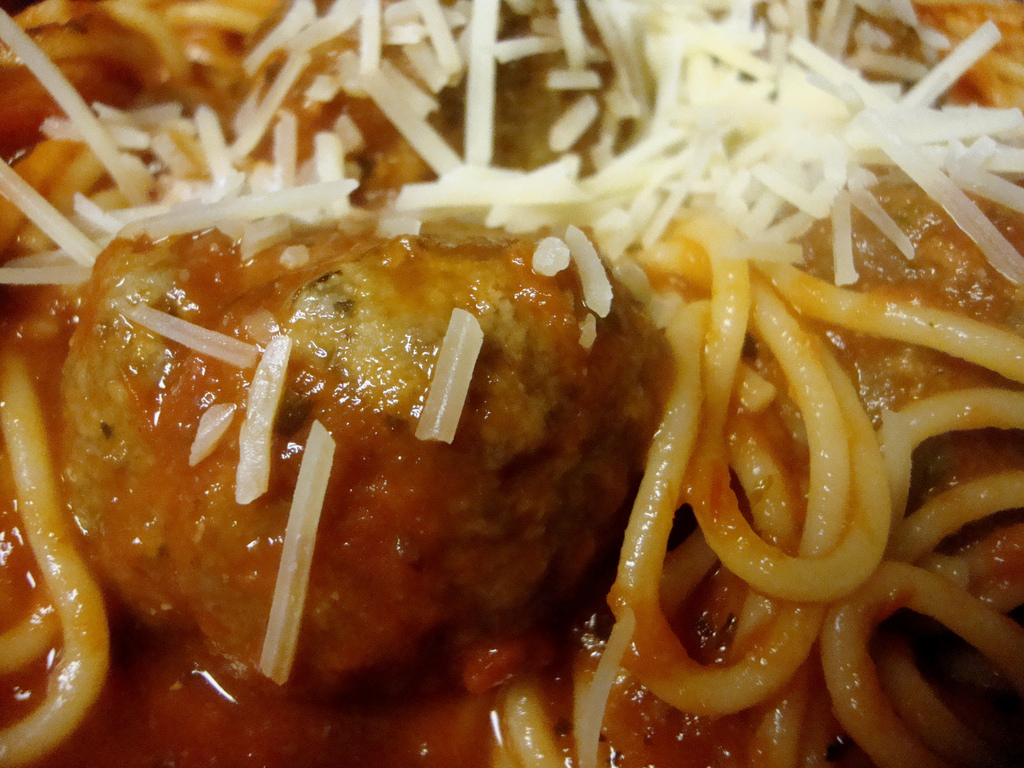meatballs: (89, 229, 683, 689)
plain spaghetti: (636, 213, 1012, 768)
